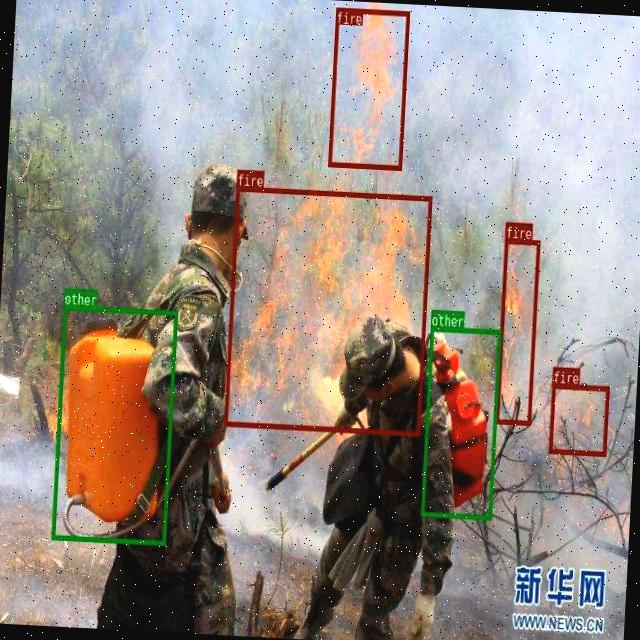fire: (224, 186, 431, 436), (328, 7, 408, 169), (494, 238, 540, 424), (548, 383, 609, 456)
